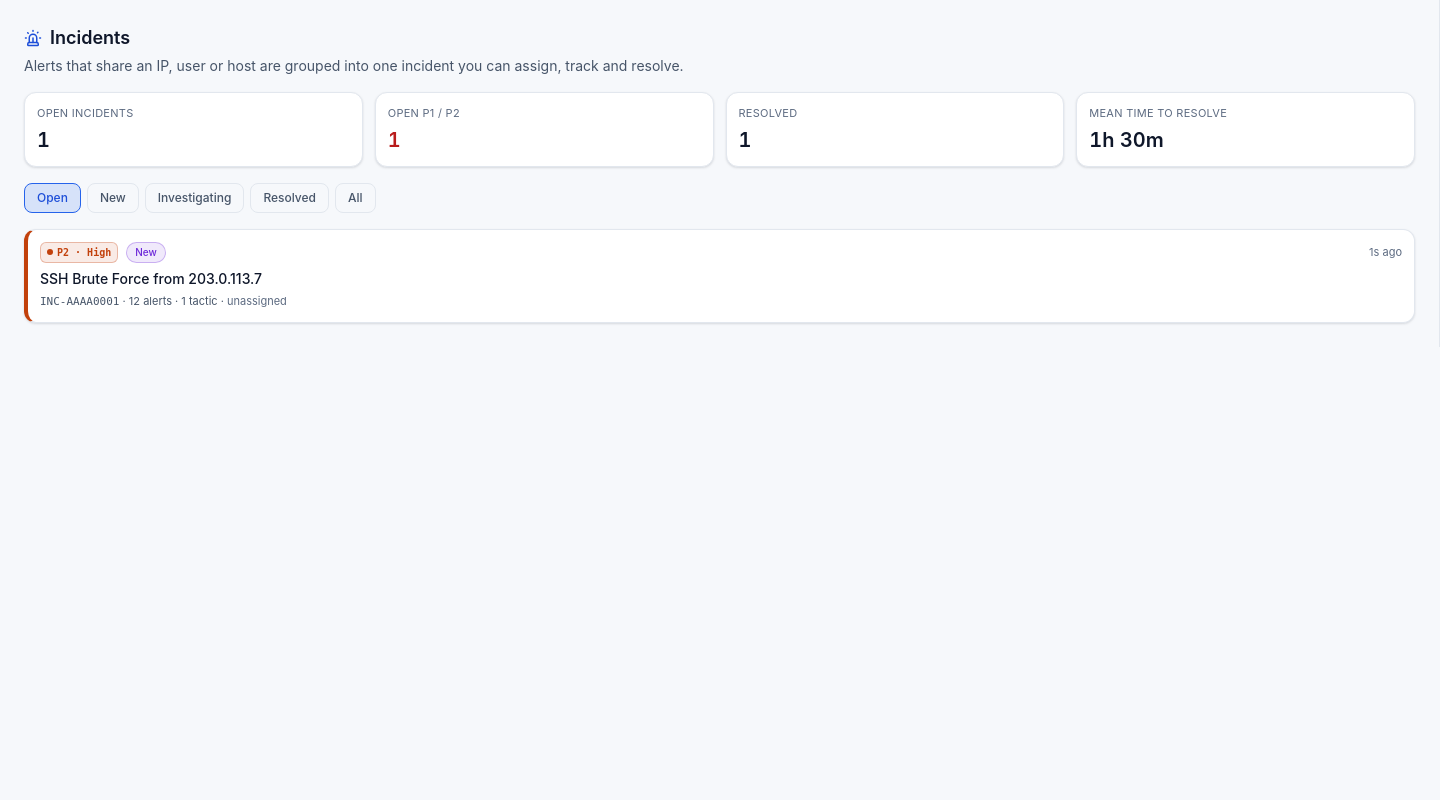
Test: Incident AI actions › rates the latest AI investigation
Click the text "SSH Brute Force from 203.0.113.7" at (151, 278), box [40,270,262,286]
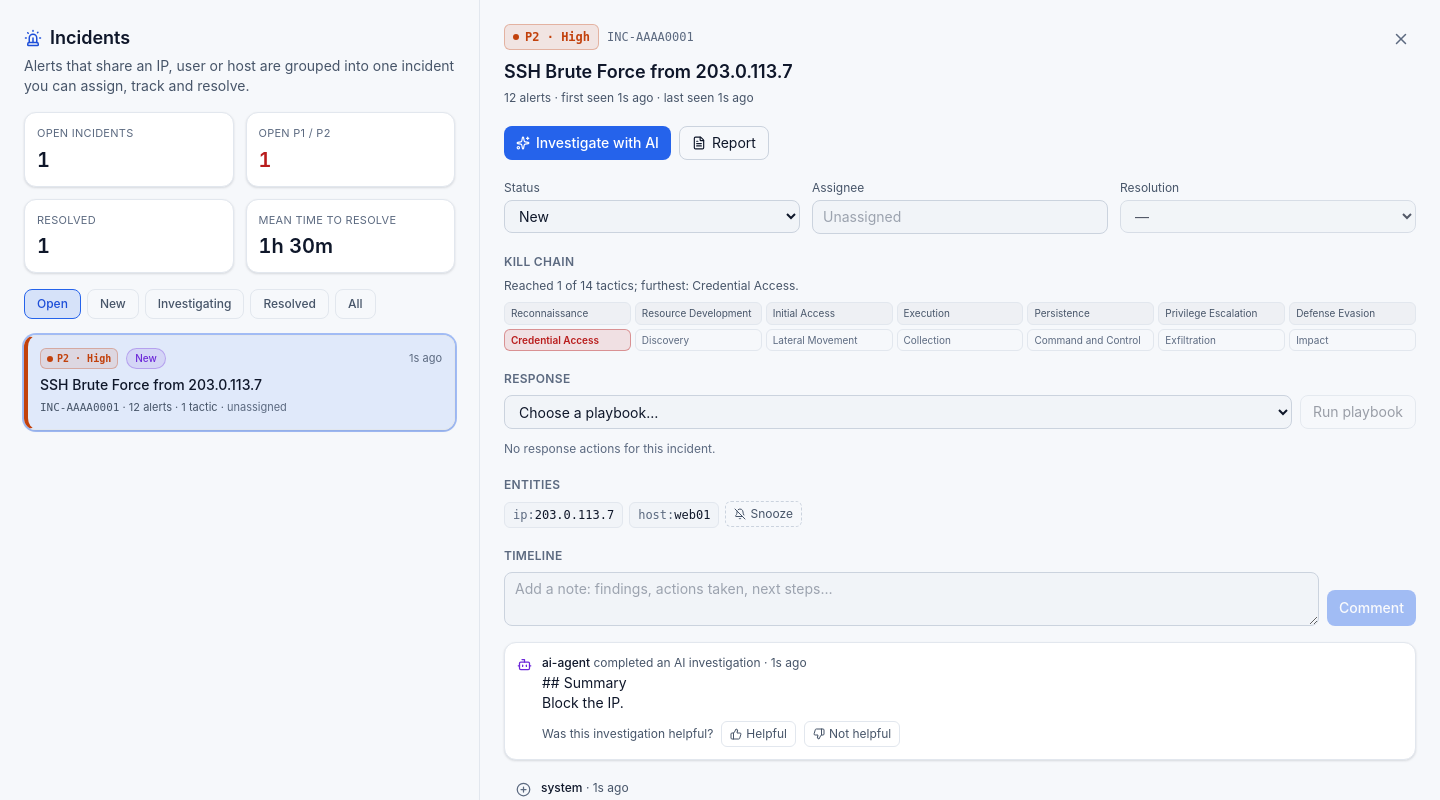
Click the button "Not helpful" at (852, 734), box [804,721,900,747]
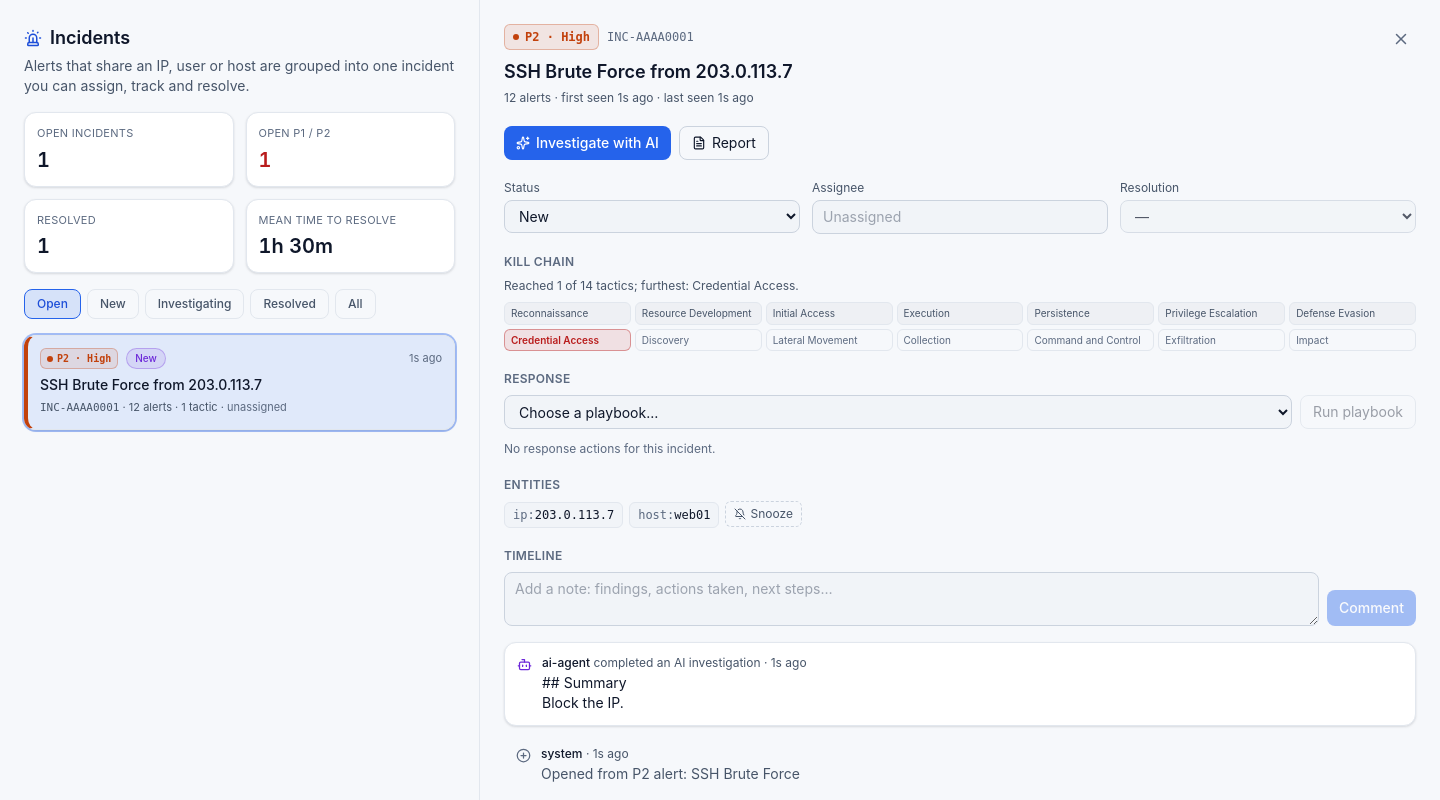
Expected: the button "Not helpful" is gone
